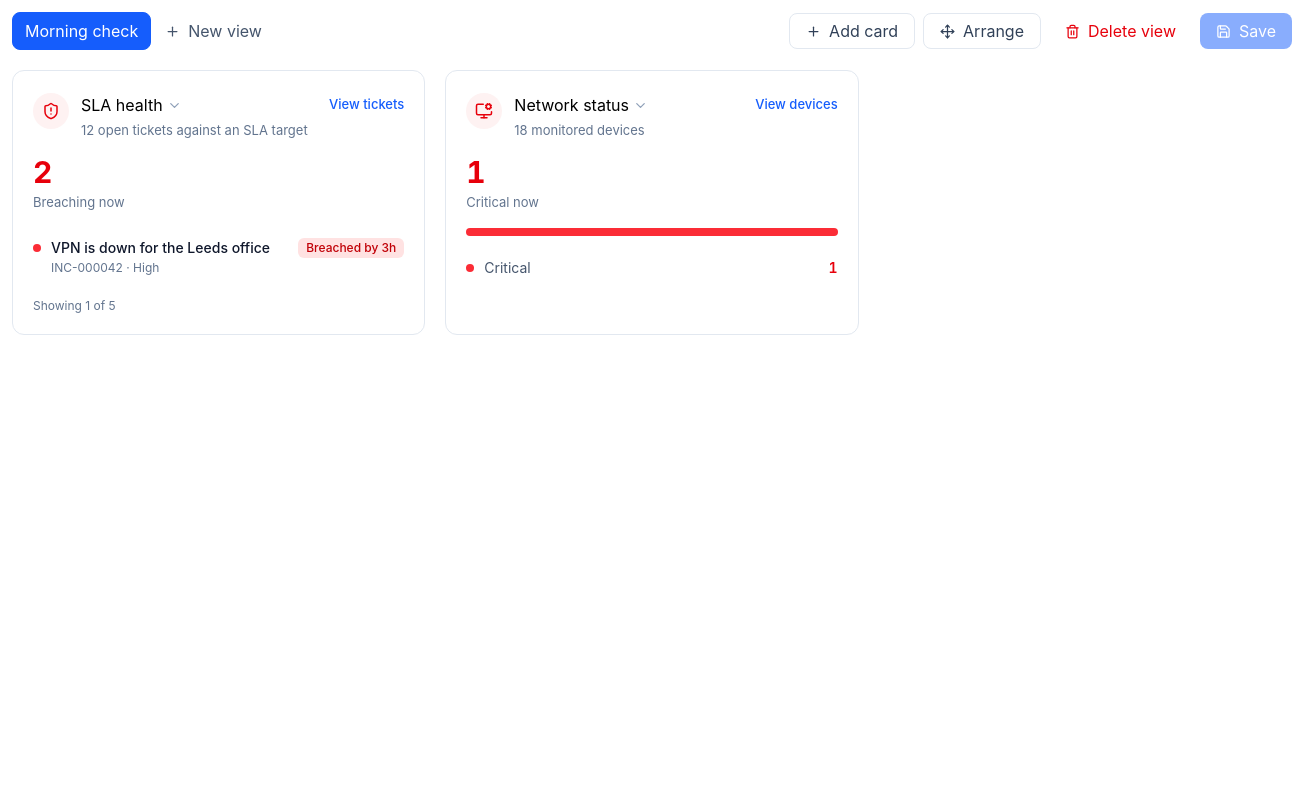
it: DashboardPage › cards or charts › will not offer a chart for a widget with nothing to plot
Click the button "SLA health".
click(131, 105)  # box [75,91,188,119]
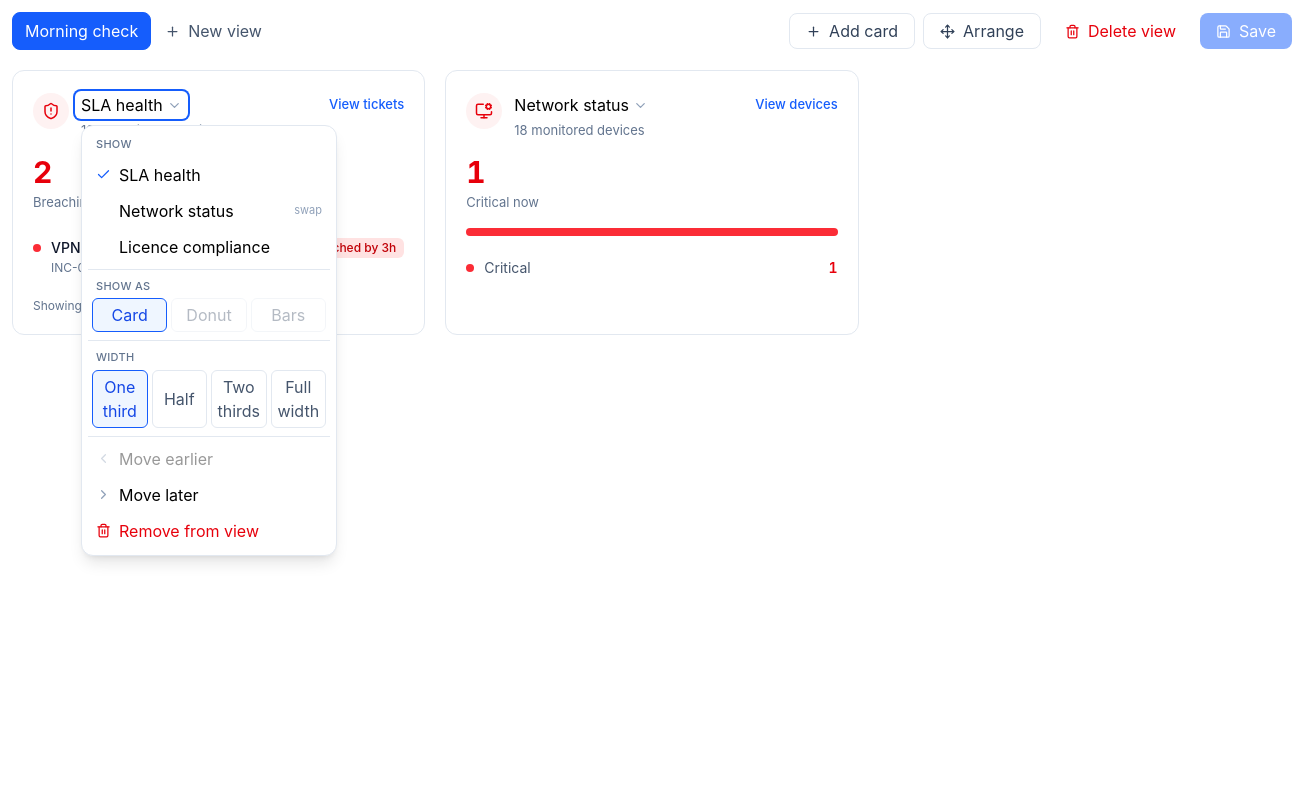
Result: the menu item "Donut" is disabled at [171,298,247,332]
Result: the menu item "Bars" is disabled at [251,298,326,332]
